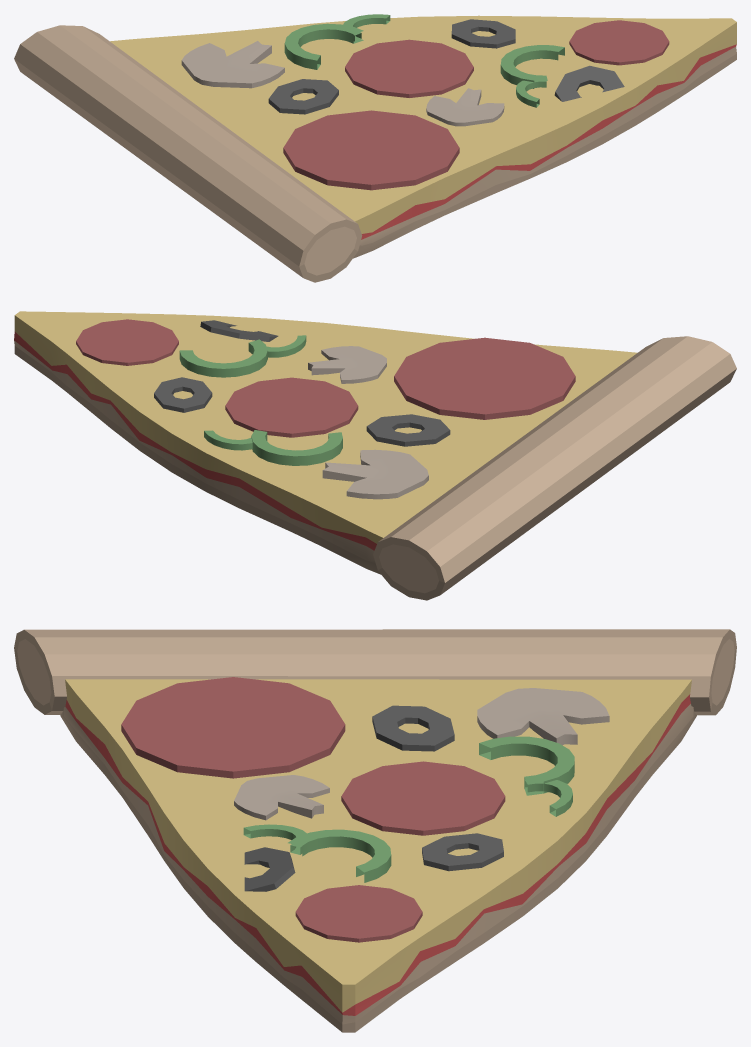
The model's file is F_Pizza.fbx.
3 views of the same model, one above another, from view 1: azimuth 30°, elevation 25°; view 2: azimuth 150°, elevation 25°; view 3: azimuth 270°, elevation 25° (orthographic). The views are drawn at different scales.
Parts seen in each view (by area): view 1: pCube1, pCylinder1, pCylinder2, pCylinder3, pCylinder4, pCube2, pPipe6, pCube3, pPipe7, pPipe2, pPipe1, pPipe3; view 2: pCube1, pCylinder1, pCylinder2, pCylinder3, pCylinder4, pCube2, pPipe6, pPipe7, pCube3, pPipe2, pPipe1, pPipe3; view 3: pCube1, pCylinder1, pCylinder2, pCylinder3, pCylinder4, pCube2, pPipe6, pPipe7, pCube3, pPipe2, pPipe1, pPipe3.
Boxes of the visible parts, <box> form: pCube1: <box>110,15,736,258</box>; pCylinder1: <box>14,25,362,282</box>; pCylinder2: <box>283,110,459,190</box>; pCylinder3: <box>345,39,473,97</box>; pCylinder4: <box>569,20,669,65</box>; pCube2: <box>181,41,284,88</box>; pPipe6: <box>284,14,390,69</box>; pCube3: <box>426,88,504,126</box>; pPipe7: <box>500,45,564,107</box>; pPipe2: <box>268,79,338,114</box>; pPipe1: <box>451,19,515,48</box>; pPipe3: <box>554,65,624,101</box>; pCube1: <box>14,311,637,574</box>; pCylinder1: <box>373,336,736,600</box>; pCylinder2: <box>394,337,575,419</box>; pCylinder3: <box>225,377,358,437</box>; pCylinder4: <box>76,319,178,365</box>; pCube2: <box>322,449,428,499</box>; pPipe6: <box>204,430,342,465</box>; pPipe7: <box>179,335,306,377</box>; pCube3: <box>308,346,386,383</box>; pPipe2: <box>366,414,450,446</box>; pPipe1: <box>154,377,212,412</box>; pPipe3: <box>200,320,278,341</box>; pCube1: <box>60,679,696,1032</box>; pCylinder1: <box>14,629,736,715</box>; pCylinder2: <box>121,677,345,778</box>; pCylinder3: <box>341,761,505,835</box>; pCylinder4: <box>295,885,422,942</box>; pCube2: <box>477,688,609,745</box>; pPipe6: <box>479,736,574,816</box>; pPipe7: <box>243,824,391,882</box>; pCube3: <box>234,775,329,820</box>; pPipe2: <box>372,705,454,751</box>; pPipe1: <box>422,833,503,871</box>; pPipe3: <box>244,847,295,891</box>.
Size of the model in its own units: 6.19 by 0.574 by 5.36.
